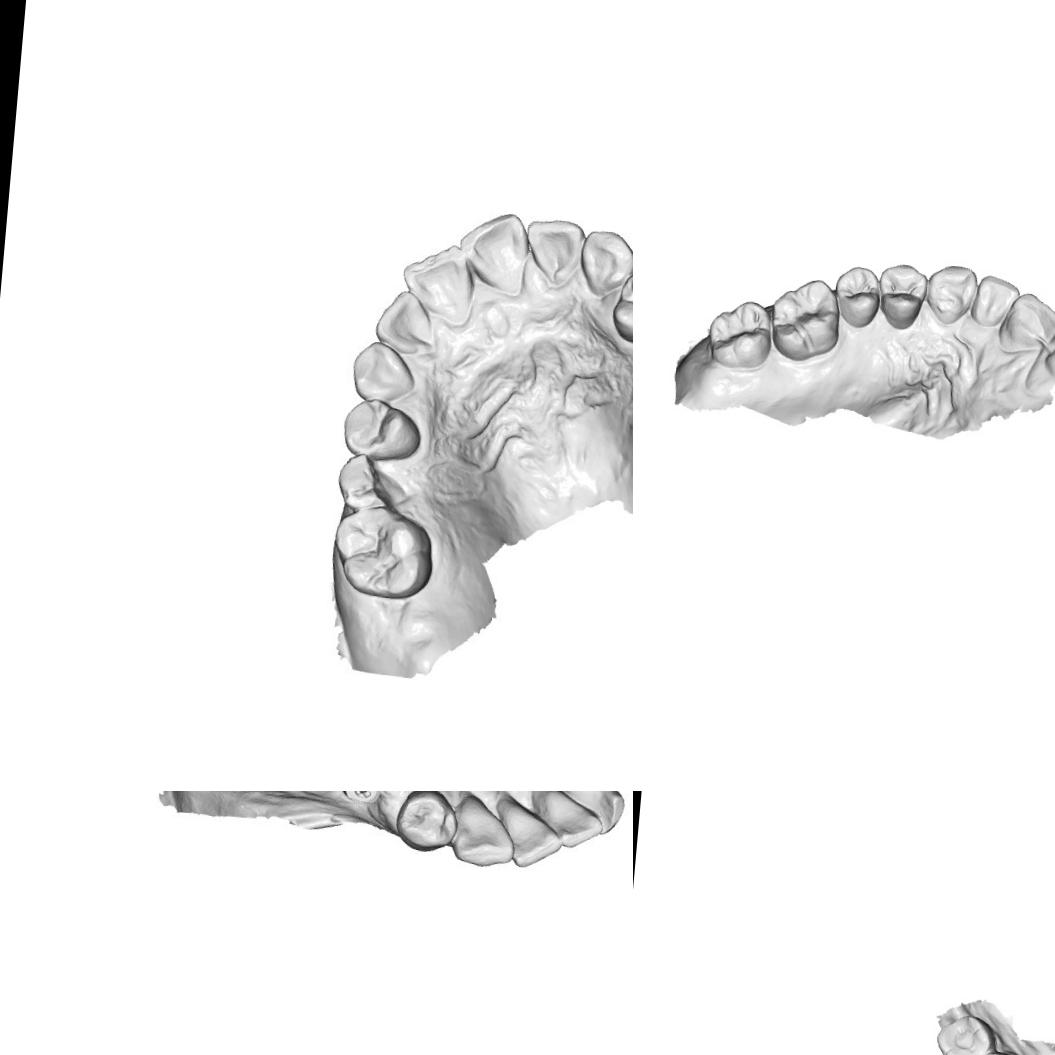canine: (444, 791, 516, 870), (574, 224, 633, 302), (350, 342, 420, 402), (921, 260, 980, 328)
implant_plus: (330, 791, 391, 817)
incisor: (394, 237, 482, 329), (452, 205, 534, 295), (495, 791, 564, 869), (520, 211, 588, 289), (531, 791, 604, 851), (996, 289, 1055, 356), (545, 791, 628, 837), (374, 287, 434, 350), (968, 272, 1022, 330)
molar: (330, 502, 436, 602), (766, 272, 844, 366), (702, 295, 776, 371), (929, 1009, 1000, 1055)
premolar: (342, 394, 425, 458), (331, 451, 404, 511), (394, 791, 459, 855), (873, 260, 930, 332), (830, 262, 884, 329), (608, 266, 633, 346)
